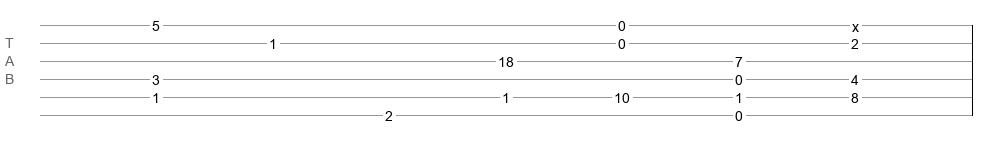0: (618, 36, 626, 46), (618, 18, 626, 28), (735, 108, 743, 118), (735, 72, 743, 82)
1: (152, 90, 160, 100), (269, 36, 277, 46), (502, 90, 510, 100), (735, 90, 743, 100)
10: (614, 90, 630, 100)
18: (498, 54, 514, 64)
2: (385, 108, 393, 118), (851, 36, 859, 46)
3: (152, 72, 160, 82)
4: (851, 72, 859, 82)
5: (152, 18, 160, 28)
7: (735, 54, 743, 64)
8: (851, 90, 859, 100)
x: (852, 19, 859, 27)
